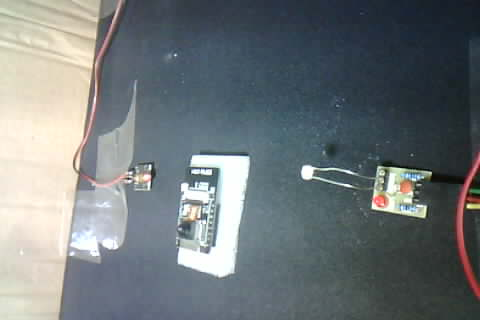esp32: (175, 149, 257, 272)
